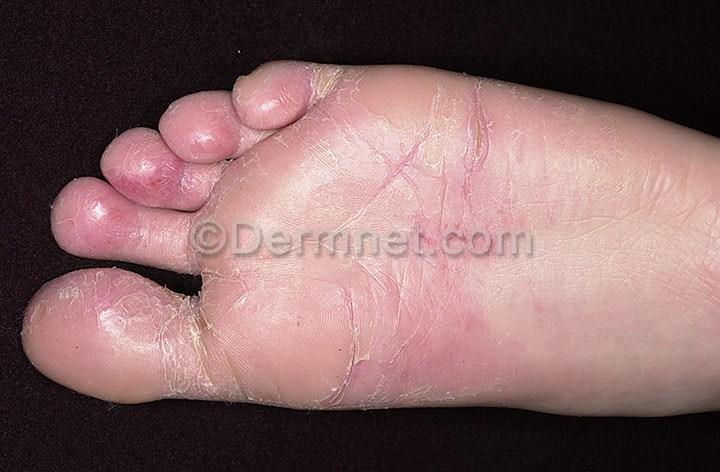Eczema: (53, 289, 251, 399), (311, 277, 427, 400), (417, 80, 509, 224), (99, 157, 206, 205), (293, 60, 361, 130), (69, 198, 133, 248)
